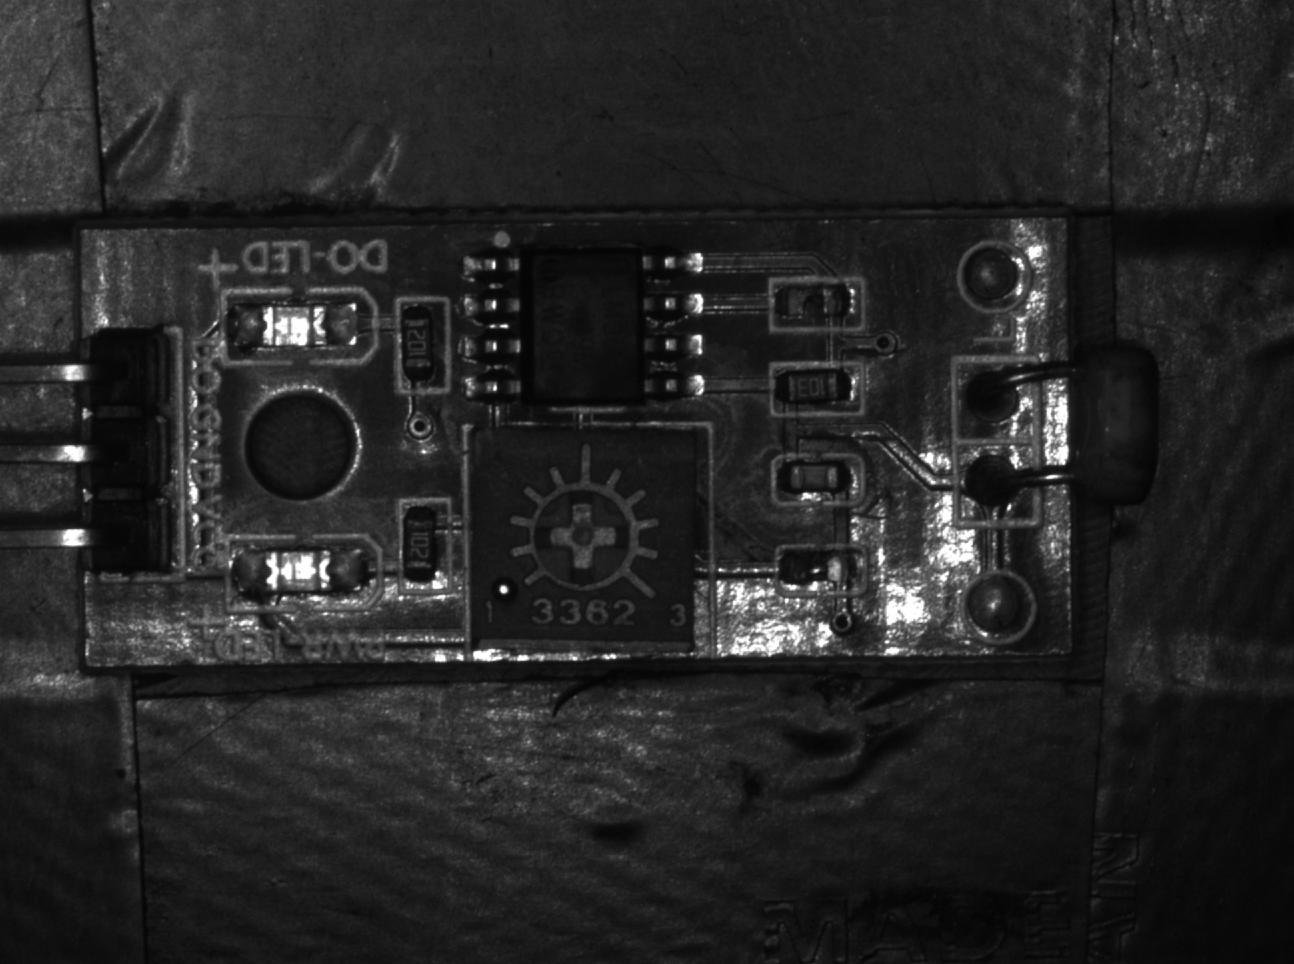miss: (766, 271, 865, 330), (775, 544, 870, 596)
ok: (391, 296, 453, 395), (396, 498, 451, 600), (770, 450, 865, 508), (766, 363, 869, 416)
